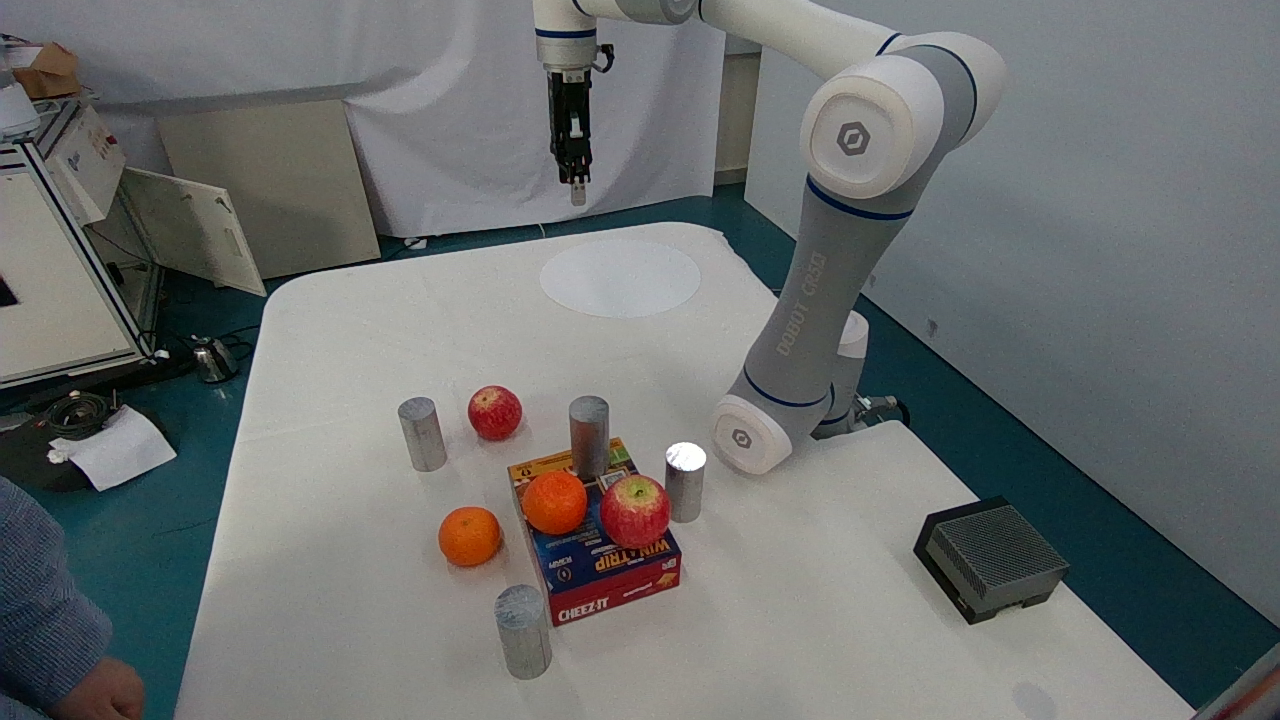apple: (594, 462, 676, 549), (462, 374, 531, 448)
metal rod: (490, 576, 560, 688), (553, 382, 622, 488), (655, 436, 714, 535), (384, 391, 451, 477)
orange: (425, 487, 510, 579), (513, 463, 590, 536)
